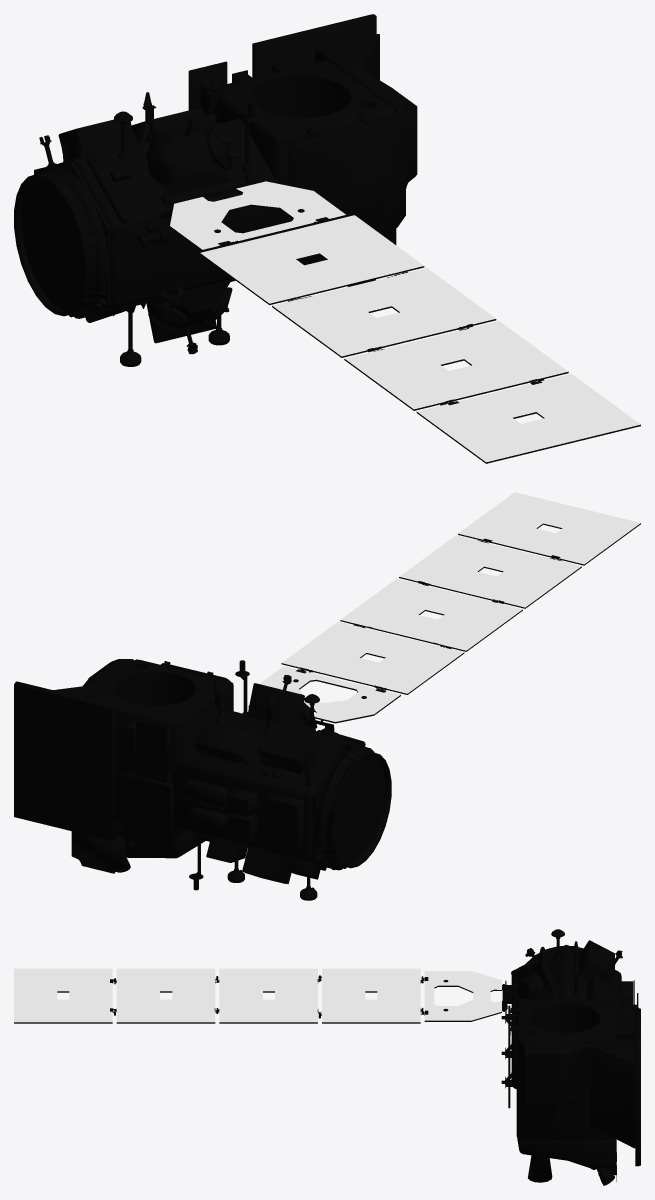
Rendered from ICESat2-label-solar_panel.fbx.
3 views of the same model, one above another, from view 1: azimuth 30°, elevation 25°; view 2: azimuth 150°, elevation 25°; view 3: azimuth 270°, elevation 25° (orthographic). The views are drawn at different scales.
Parts seen in each view (by area): view 1: ICESat2-label-solar_panel; view 2: ICESat2-label-solar_panel; view 3: ICESat2-label-solar_panel.
Boxes of the visible parts, x1=… form: ICESat2-label-solar_panel: x1=14, y1=14, x2=640, y2=463; ICESat2-label-solar_panel: x1=14, y1=492, x2=640, y2=900; ICESat2-label-solar_panel: x1=14, y1=929, x2=640, y2=1185.
Size of the model in its own units: 51.9 by 33.07 by 105.
Materials: 8 (1 with a texture image).
